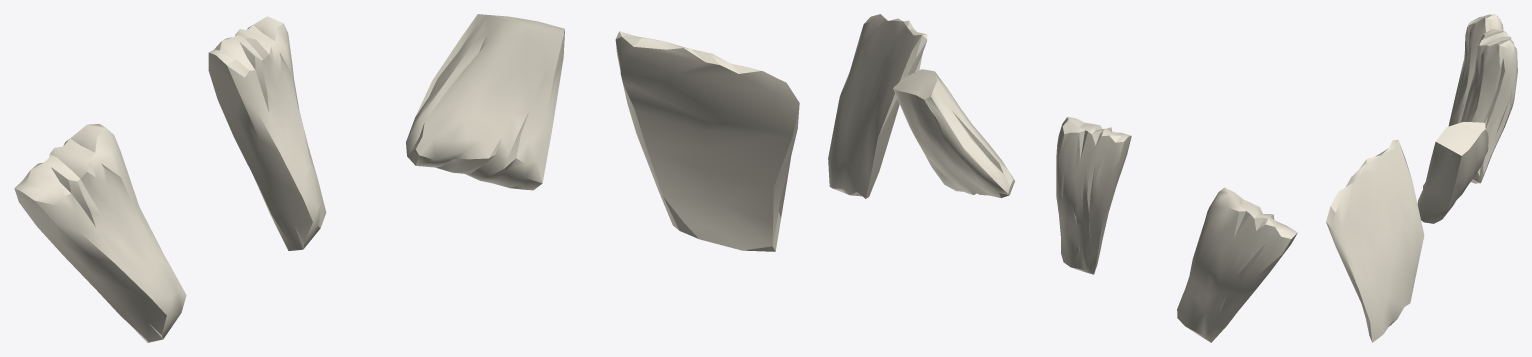
File: fma42317_mm2022m.glb
The picture shows the model from 3 angles, left to right: view 1: azimuth 30°, elevation 25°; view 2: azimuth 150°, elevation 25°; view 3: azimuth 270°, elevation 25°; orthographic projection. The views are drawn at different scales.
Parts seen in each view (by area): view 1: FMA42317_MM2022M; view 2: FMA42317_MM2022M; view 3: FMA42317_MM2022M.
Part boxes in pixels (bbox=[...]): FMA42317_MM2022M: bbox=[14, 14, 799, 342]; FMA42317_MM2022M: bbox=[828, 14, 1297, 342]; FMA42317_MM2022M: bbox=[1326, 14, 1517, 342].
Bounding box in the file's own units: 0.0335 × 0.0127 × 0.0124.
